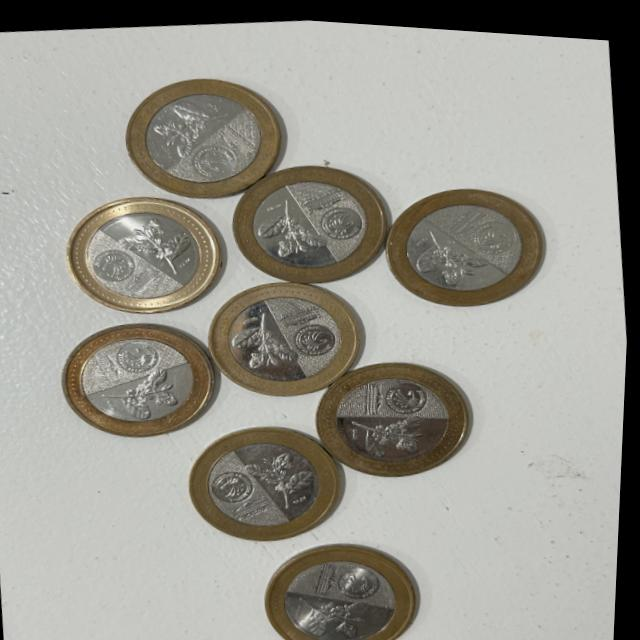20_New_Back: (150, 96, 231, 160), (348, 405, 443, 458), (103, 362, 189, 419), (121, 210, 191, 280), (414, 221, 489, 283), (234, 303, 302, 368), (267, 192, 329, 258), (298, 586, 376, 637), (260, 445, 318, 507)
